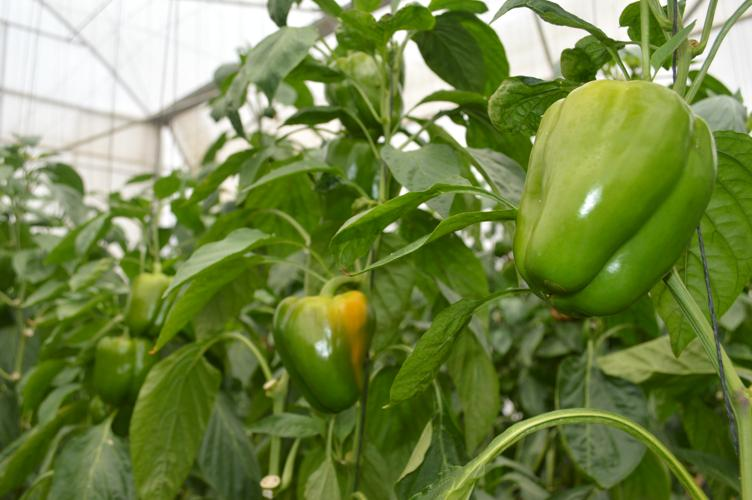BellPepper: (514, 55, 731, 313), (261, 285, 385, 413), (80, 330, 170, 403), (111, 264, 193, 331)
